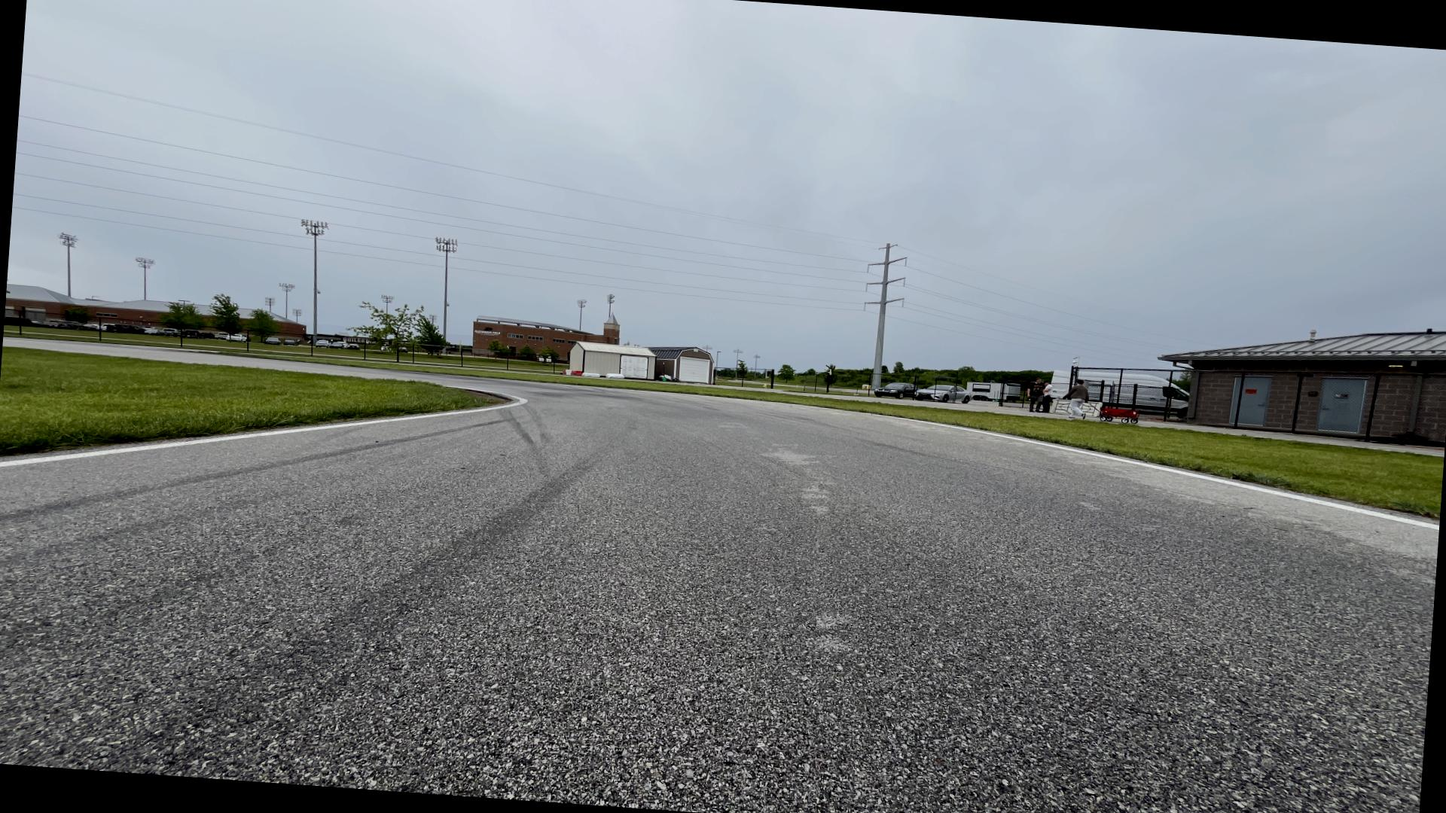white-line: (766, 401, 1438, 531), (0, 386, 526, 468)
